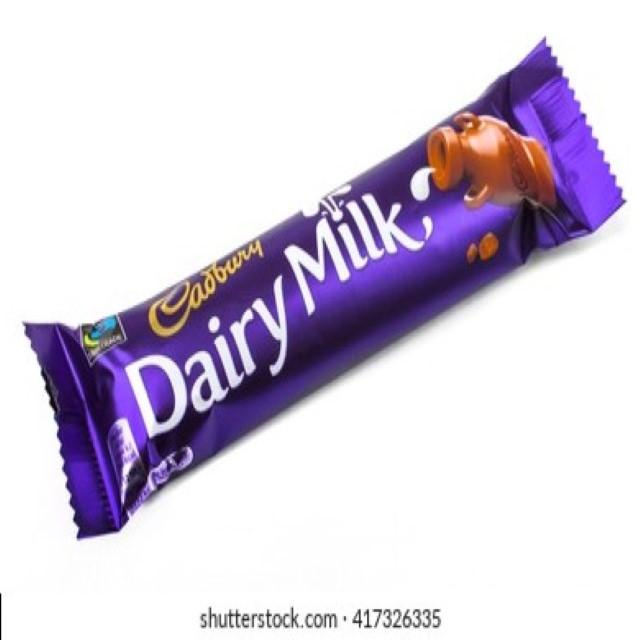cadbury_chocolate: (33, 40, 632, 533)
